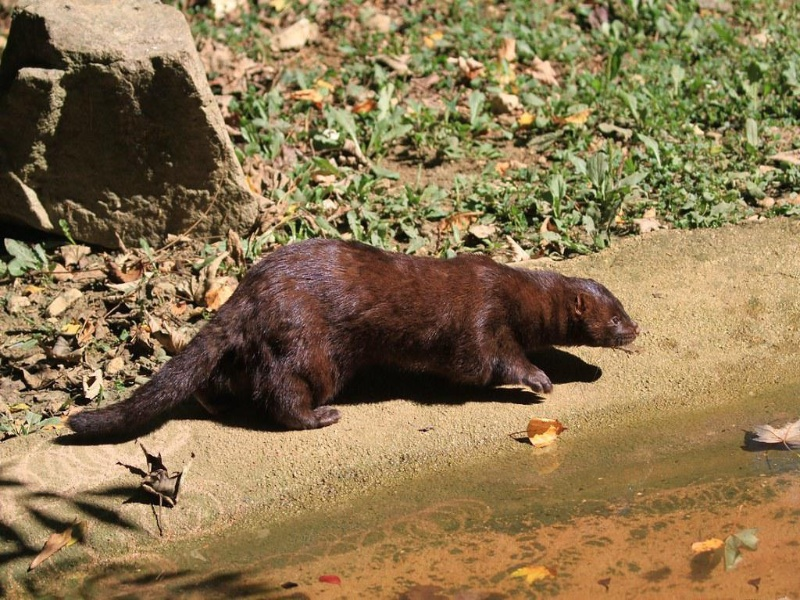minkish: (62, 231, 643, 447)
